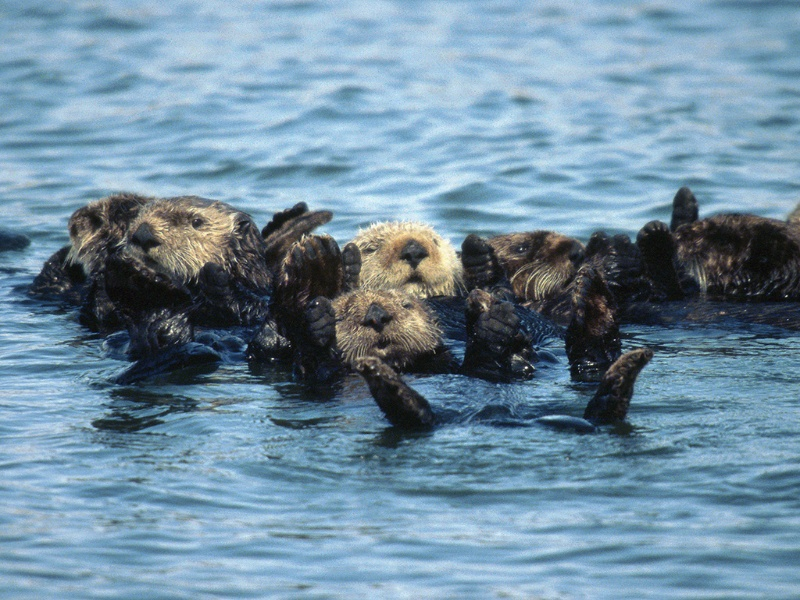minkish: (300, 287, 573, 453), (122, 198, 276, 356), (637, 182, 794, 307), (305, 211, 456, 307), (466, 220, 624, 307)
